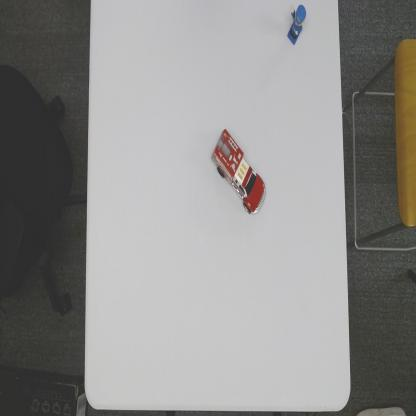Firetruck: (210, 125, 267, 218)
